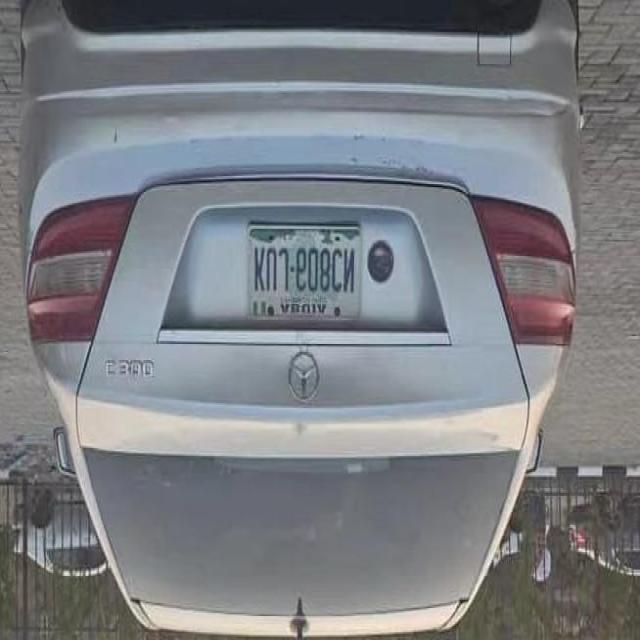Nigerian License Plate - vdataset benjamin-daria: (243, 221, 366, 331)
